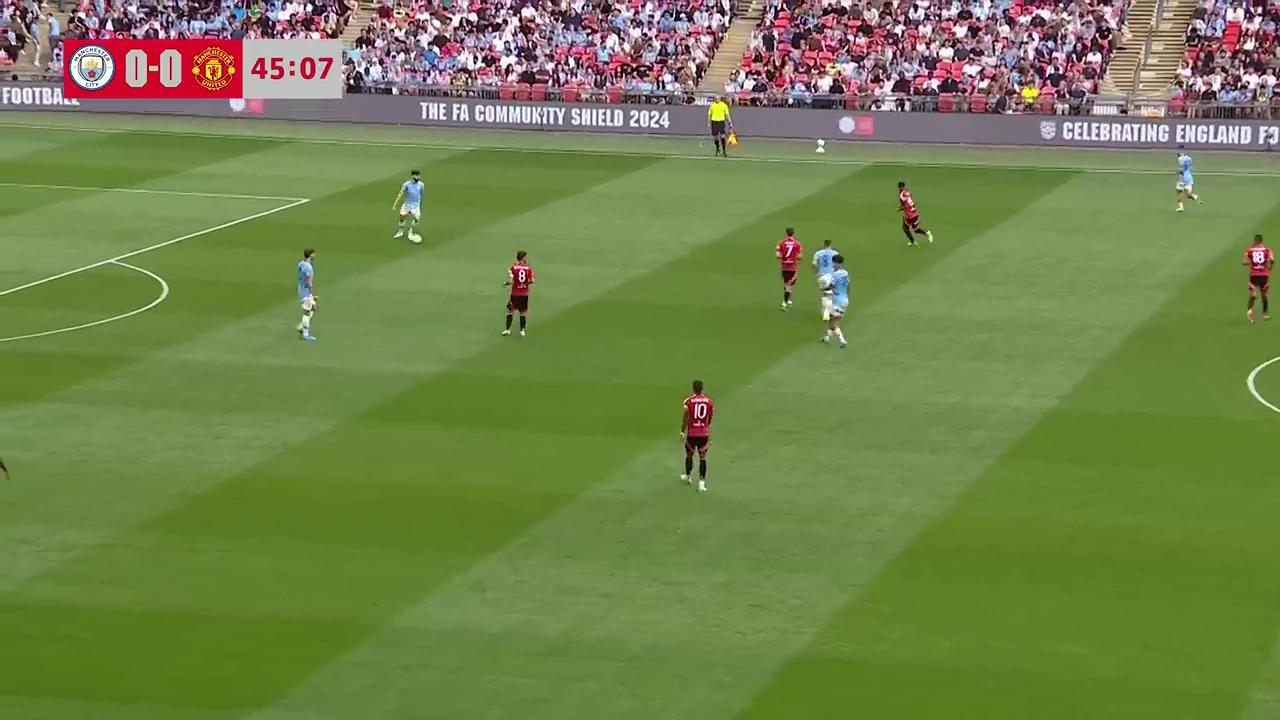ball: (411, 230, 422, 244)
player: (679, 380, 714, 491), (501, 250, 535, 337), (1242, 232, 1274, 322), (817, 268, 849, 348), (391, 169, 425, 243), (897, 182, 933, 247), (775, 227, 802, 311), (296, 247, 318, 341), (813, 238, 843, 296), (1174, 149, 1201, 211), (0, 399, 10, 490)
referee: (709, 96, 733, 158)
